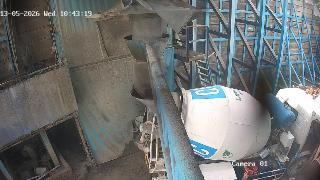cement_mixer_truck: (131, 85, 320, 180)
swing_chute: (125, 36, 169, 87)
